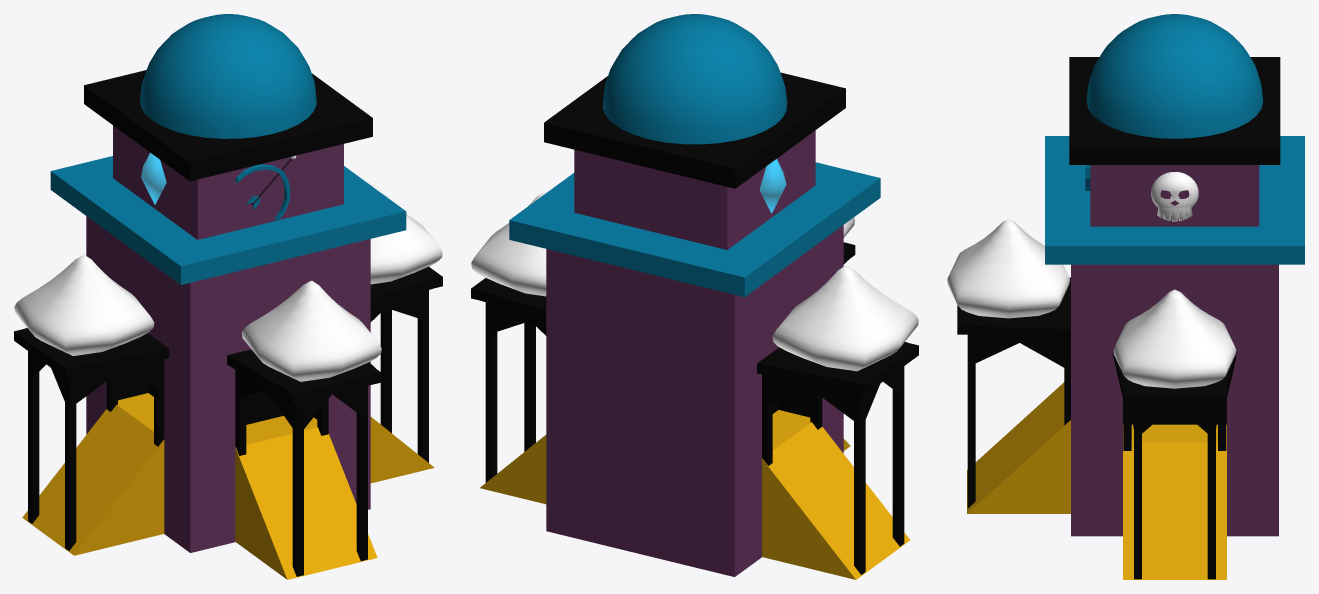
The model's file is BuildingBlue.fbx.
The picture shows the model from 3 angles, left to right: view 1: azimuth 30°, elevation 25°; view 2: azimuth 150°, elevation 25°; view 3: azimuth 270°, elevation 25°; orthographic projection. The views are drawn at different scales.
Visible parts, largest first — view 1: BuildingBlue; view 2: BuildingBlue; view 3: BuildingBlue.
Boxes of the visible parts, x1=… form: BuildingBlue: x1=14, y1=14, x2=442, y2=579; BuildingBlue: x1=471, y1=14, x2=918, y2=579; BuildingBlue: x1=947, y1=14, x2=1304, y2=579.
Size of the model in its own units: 438 by 499 by 344.
